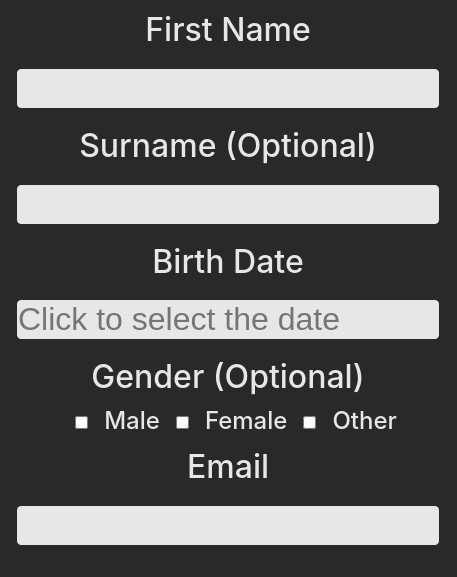
PersonForm › surname Field › should show error when input text is longer than 10 characters
Type "Prettylongsurname" into the field labelled "surname (optional)" at (228, 204), box [17, 185, 439, 224]
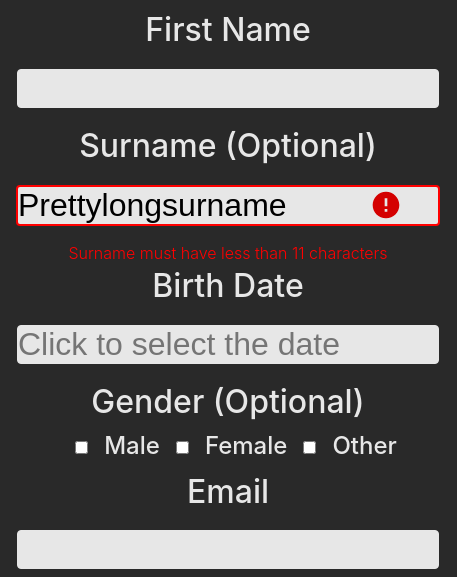
Now the text "Surname must have less than 11 characters" is shown, box [68, 242, 388, 264]
Now the text with test id "surnameError" reads "Surname must have less than 11 characters", box [68, 243, 388, 263]
